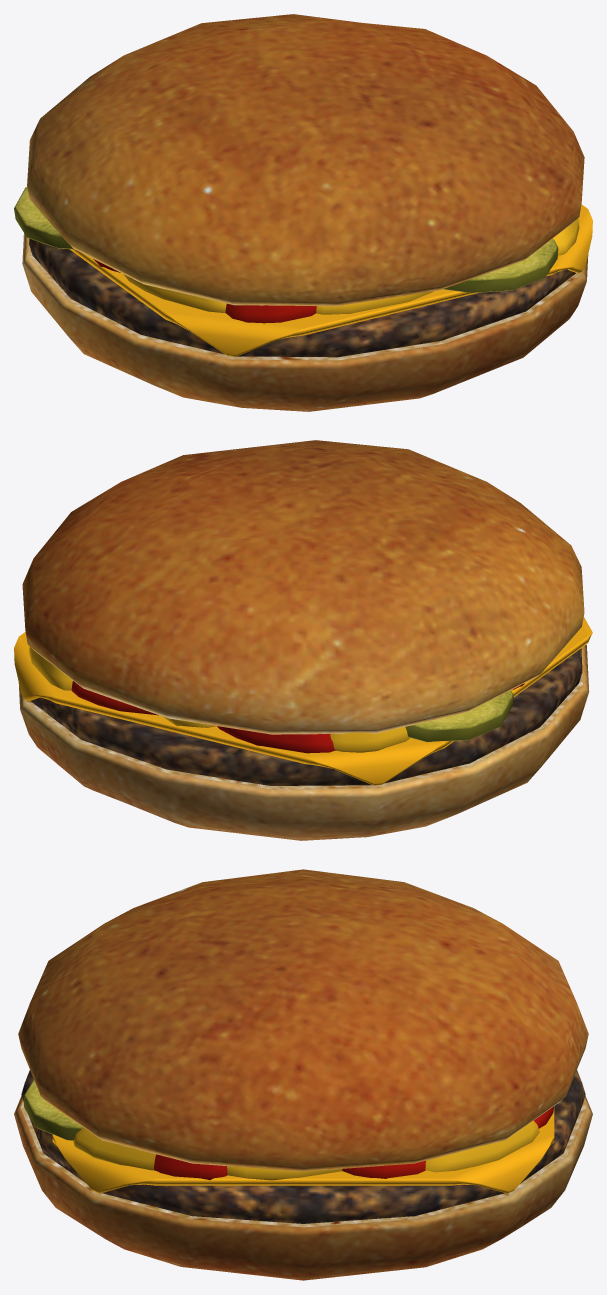
The model's file is Burger.fbx.
3 views of the same model, one above another, from view 1: azimuth 30°, elevation 25°; view 2: azimuth 150°, elevation 25°; view 3: azimuth 270°, elevation 25° (orthographic). The views are drawn at different scales.
Visible parts, largest first — view 1: Burg; view 2: Burg; view 3: Burg.
Boxes of the visible parts, x1=… form: Burg: x1=14, y1=14, x2=592, y2=411; Burg: x1=14, y1=440, x2=592, y2=840; Burg: x1=14, y1=869, x2=592, y2=1280.
Size of the model in its own units: 6.74 by 3.53 by 6.74.
Materials: 1 (1 with a texture image).
